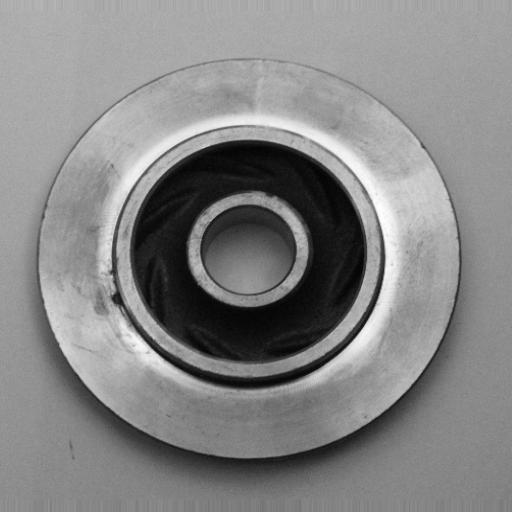crack: (100, 254, 128, 288), (104, 286, 136, 314)
unpolished_casting: (35, 56, 466, 464)
